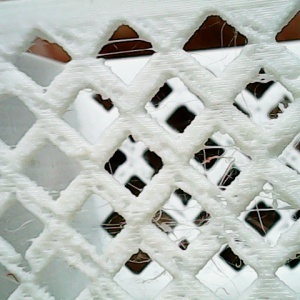3dpstringing: (152, 191, 218, 247), (236, 185, 297, 238), (186, 24, 249, 72), (71, 199, 131, 249), (190, 136, 250, 185), (197, 256, 252, 299), (90, 35, 162, 65), (125, 253, 174, 294), (4, 211, 45, 257), (102, 164, 153, 194), (144, 97, 207, 115), (233, 86, 260, 125)
3dpunderextrusion: (63, 245, 122, 297), (21, 88, 74, 145)
